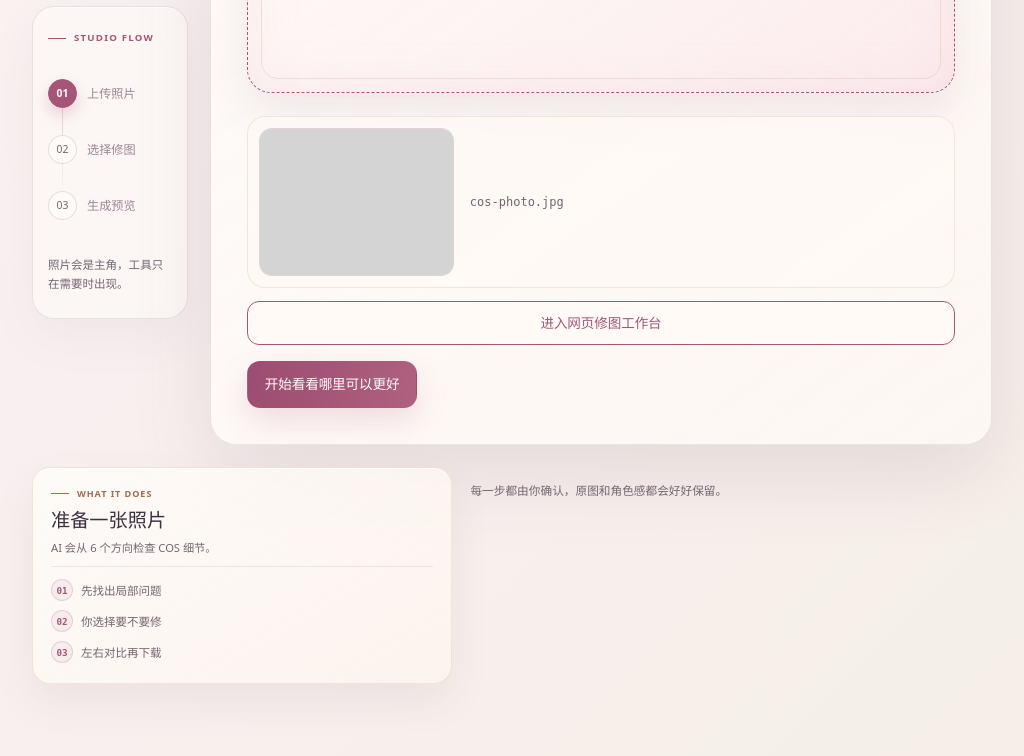
COS retouch app › disables plan saving for a failed task that already has a plan
The image size is (1024, 756).
Earlier steps of the test are not shown.
(page scrolled)
Click the button "开始看看哪里可以更好".
click(332, 384)  # box [247,361,417,408]
(page scrolled)
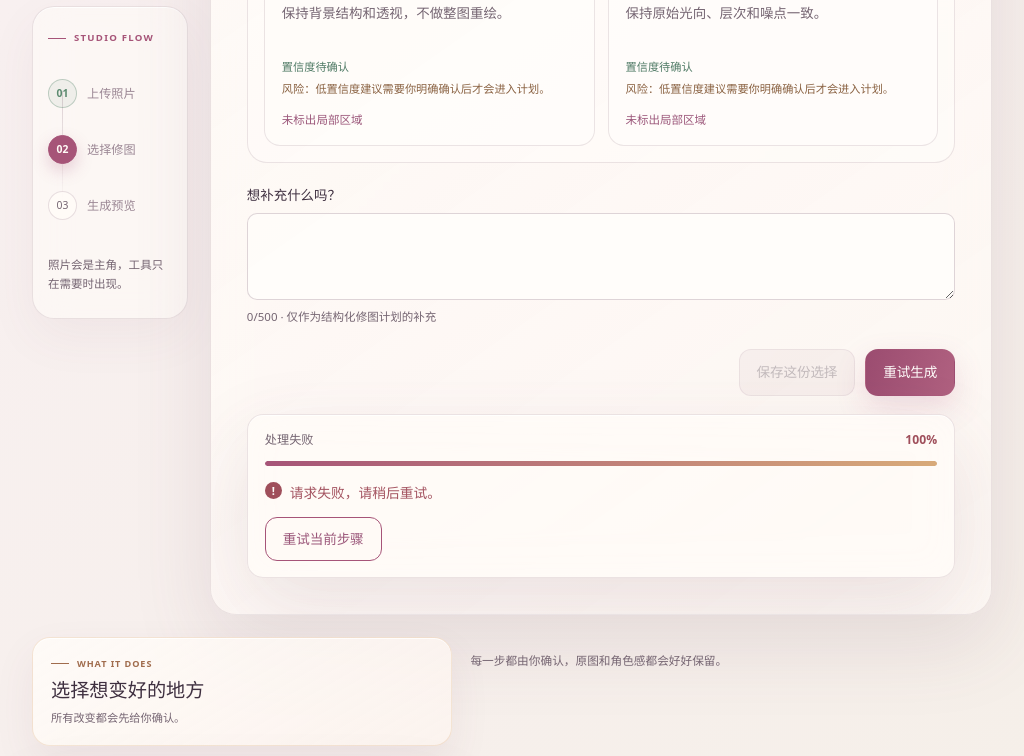
Expected: the button "重试生成" is enabled, [865,349,955,396]
Now the button "保存这份选择" is disabled, box [739,349,855,396]
